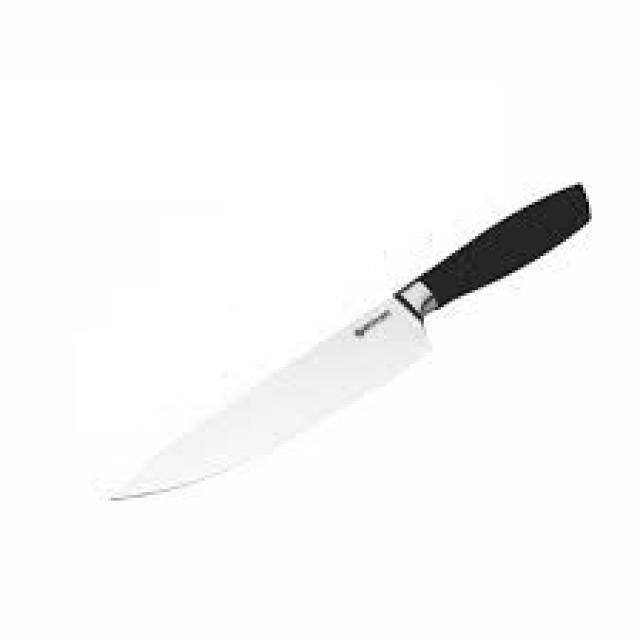knife: (103, 178, 608, 520)
